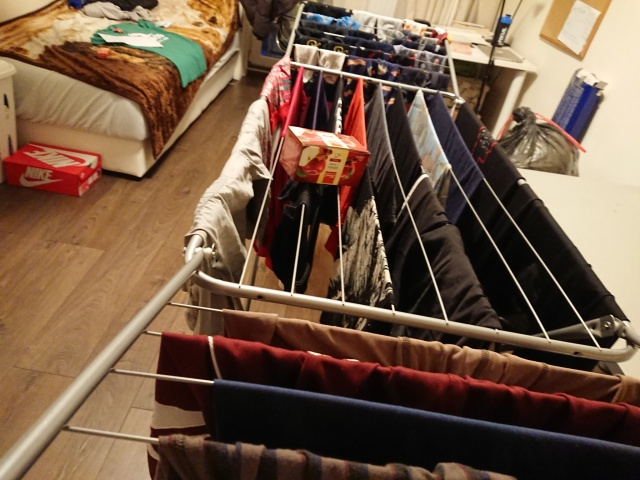Franck Apple Cinnamon Tea 60g: (275, 123, 373, 190)
